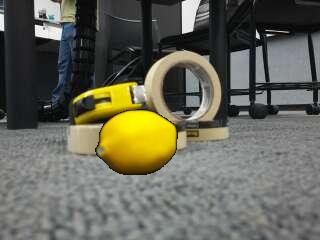lemon: (97, 111, 177, 174)
